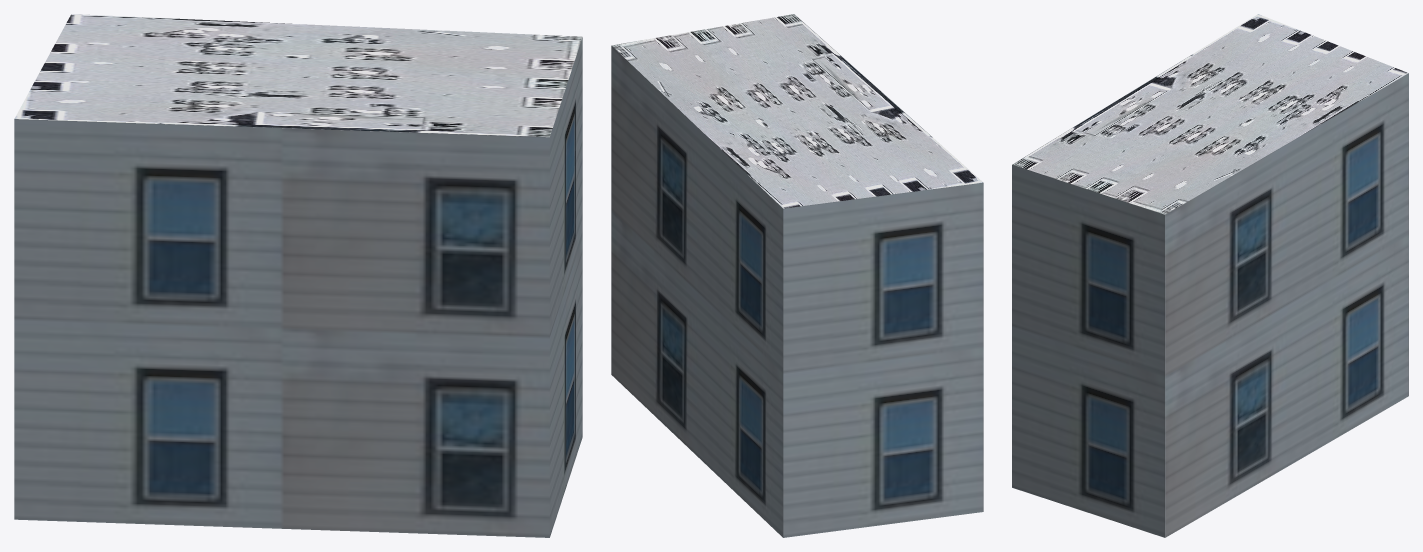
File: ResTex__5164.fbx
3 views of the same model, side by side, from view 1: azimuth 30°, elevation 25°; view 2: azimuth 150°, elevation 25°; view 3: azimuth 270°, elevation 25° (orthographic). The views are drawn at different scales.
Visible parts, largest first — view 1: CityEngineMaterial_18_m, CityEngineMaterial_8_m; view 2: CityEngineMaterial_18_m, CityEngineMaterial_8_m; view 3: CityEngineMaterial_18_m, CityEngineMaterial_8_m.
Boxes of the visible parts, x1,y1,x2,y2 form: CityEngineMaterial_18_m: [14, 37, 582, 537]; CityEngineMaterial_8_m: [14, 14, 582, 137]; CityEngineMaterial_18_m: [611, 46, 983, 537]; CityEngineMaterial_8_m: [611, 14, 982, 208]; CityEngineMaterial_18_m: [1012, 73, 1408, 537]; CityEngineMaterial_8_m: [1012, 14, 1408, 214].
Size of the model in its own units: 8 by 6 by 6.68.
Materials: 2 (2 with a texture image).
